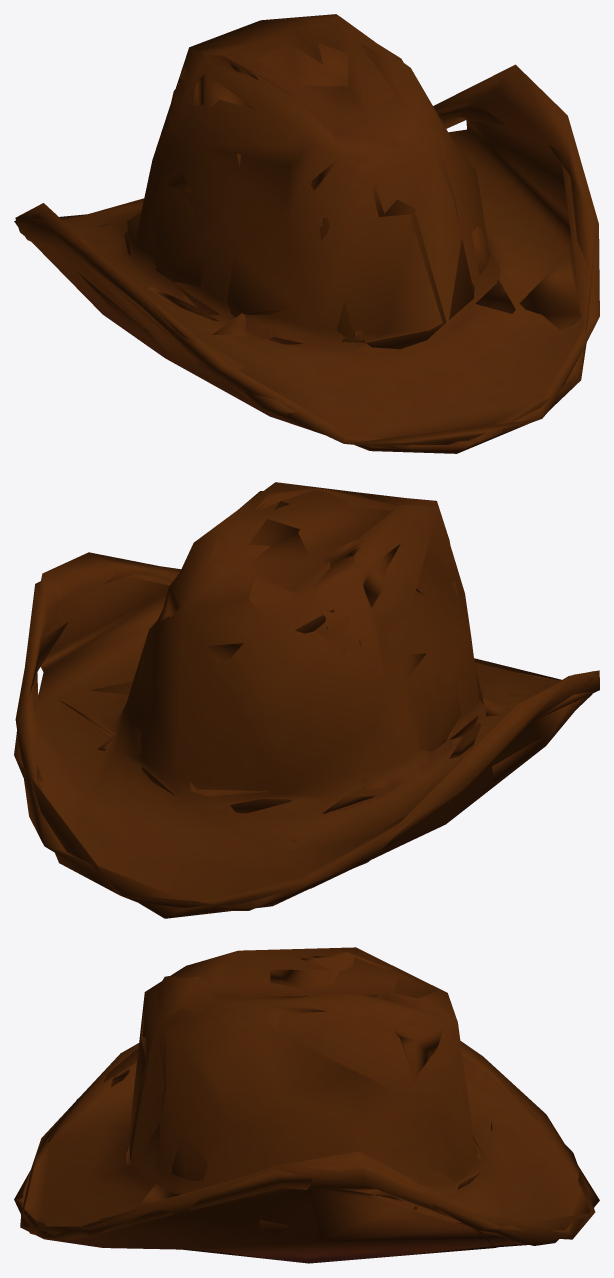
The model's file is hat-cowboy.glb.
3 views of the same model, one above another, from view 1: azimuth 30°, elevation 25°; view 2: azimuth 150°, elevation 25°; view 3: azimuth 270°, elevation 25° (orthographic). The views are drawn at different scales.
Parts seen in each view (by area): view 1: Body; view 2: Body; view 3: Body.
Boxes of the visible parts, bbox=[...] form: Body: bbox=[14, 14, 599, 453]; Body: bbox=[14, 482, 599, 918]; Body: bbox=[14, 947, 599, 1263].
Bounding box in the file's own units: 0.8345 × 0.4511 × 0.991.
Materials: 1 (1 with a texture image).
